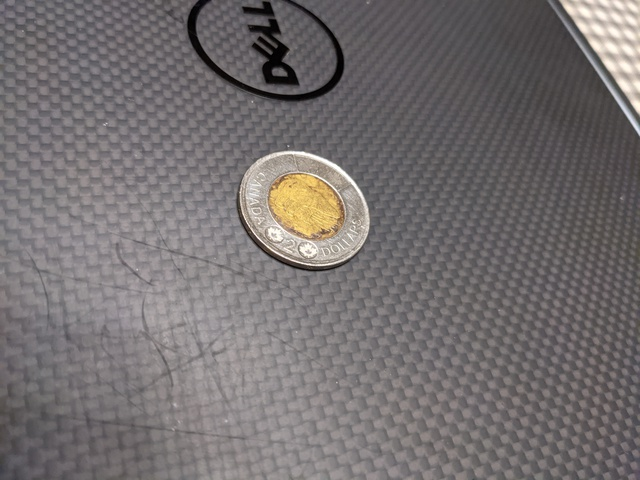twonie: (220, 138, 377, 279)
